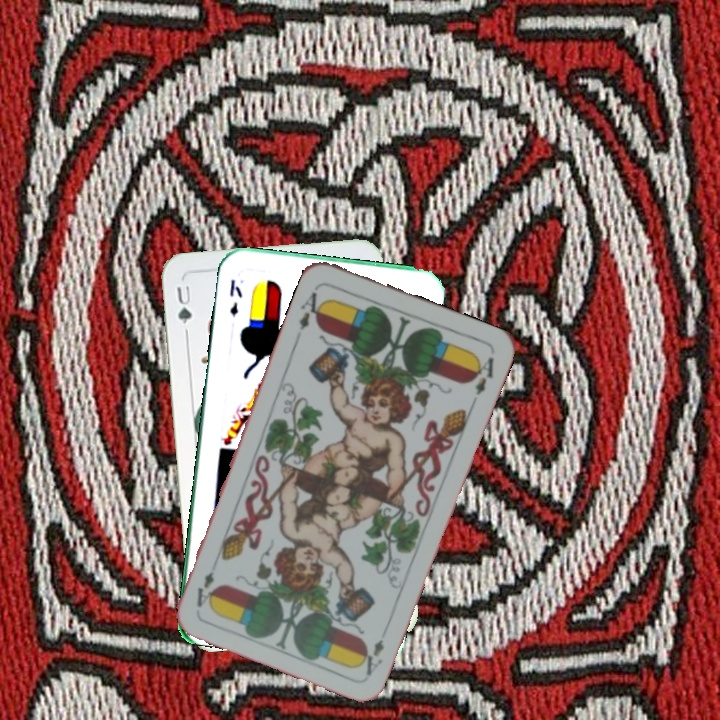EA: (295, 288, 329, 333), (355, 635, 387, 679)
EK: (226, 275, 245, 318)
GU: (172, 281, 194, 327)
